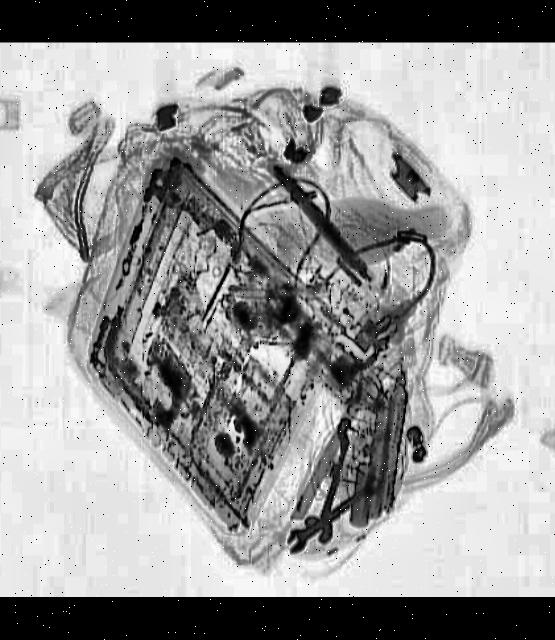Wrench: (275, 478, 382, 559), (300, 419, 364, 548)
